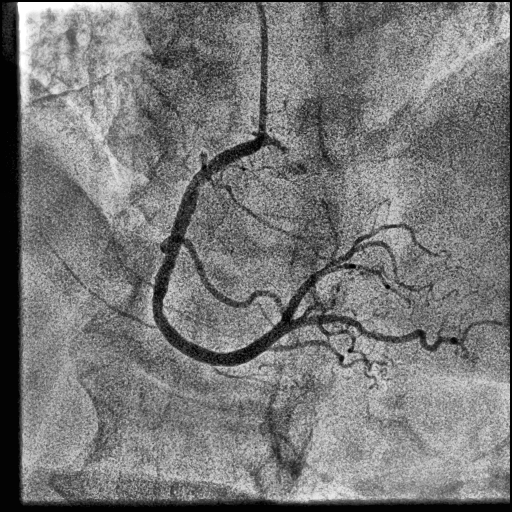pborca: (282, 250, 354, 320)
pda: (290, 315, 459, 351)
rca: (152, 142, 292, 366)
